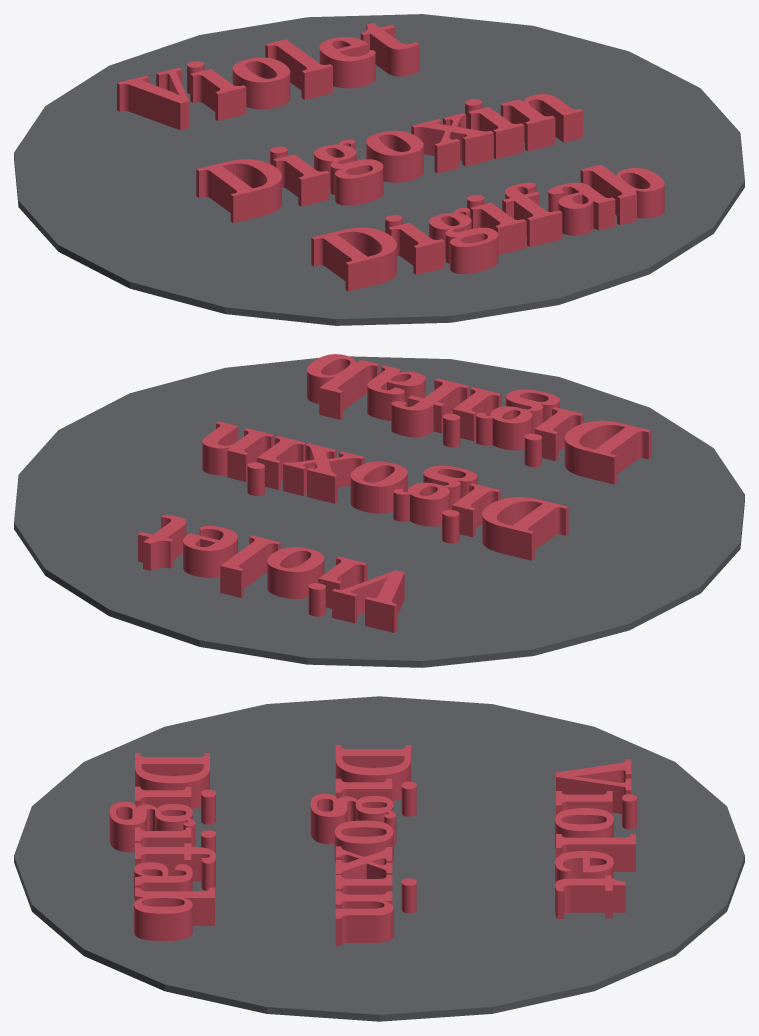
Rendered from chicago.gltf.
3 renders of one model, top to bottom at view 1: azimuth 30°, elevation 25°; view 2: azimuth 150°, elevation 25°; view 3: azimuth 270°, elevation 25°, orthographic.
Parts seen in each view (by area): view 1: Mesh_Mesh_head_geo001_lambert2SG001; view 2: Mesh_Mesh_head_geo001_lambert2SG001; view 3: Mesh_Mesh_head_geo001_lambert2SG001.
Boxes of the visible parts, x1=… form: Mesh_Mesh_head_geo001_lambert2SG001: x1=14, y1=14, x2=744, y2=325; Mesh_Mesh_head_geo001_lambert2SG001: x1=14, y1=354, x2=744, y2=667; Mesh_Mesh_head_geo001_lambert2SG001: x1=14, y1=696, x2=744, y2=1021.
Bounding box in the file's own units: 199 × 10 × 193.
